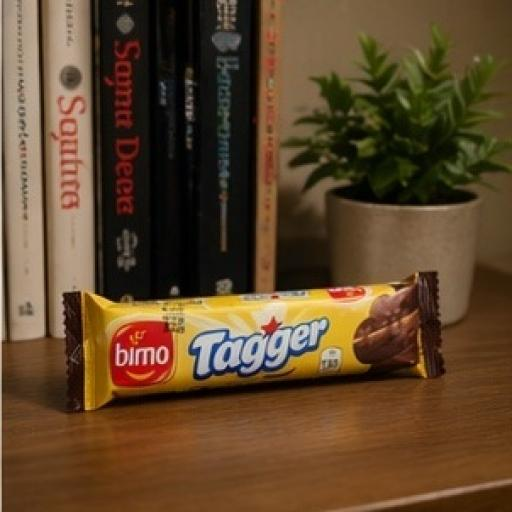tagger: (49, 230, 474, 467)
